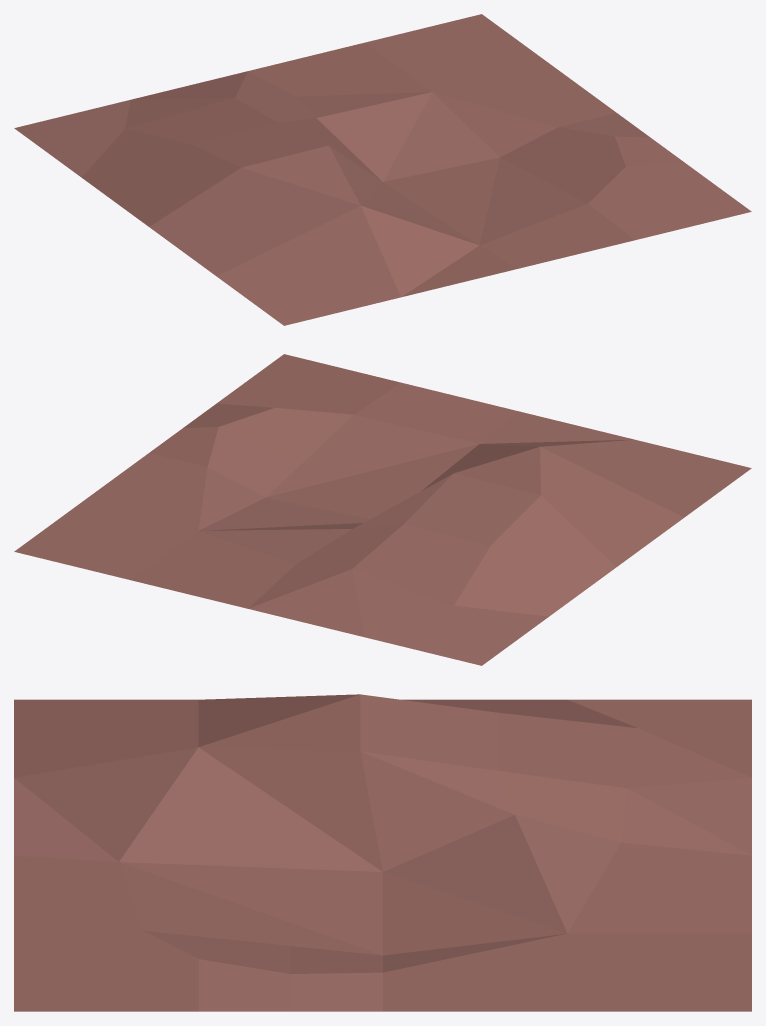
Rendered from Floor04.fbx.
3 renders of one model, top to bottom at view 1: azimuth 30°, elevation 25°; view 2: azimuth 150°, elevation 25°; view 3: azimuth 270°, elevation 25°, orthographic. The views are drawn at different scales.
Visible parts, largest first — view 1: Floor04; view 2: Floor04; view 3: Floor04.
Part boxes in pixels (x1,y1,x2,y2): Floor04: (14,14,751,325); Floor04: (14,354,751,665); Floor04: (14,694,751,1011).
Size of the model in its own units: 2032 by 257 by 2032.
